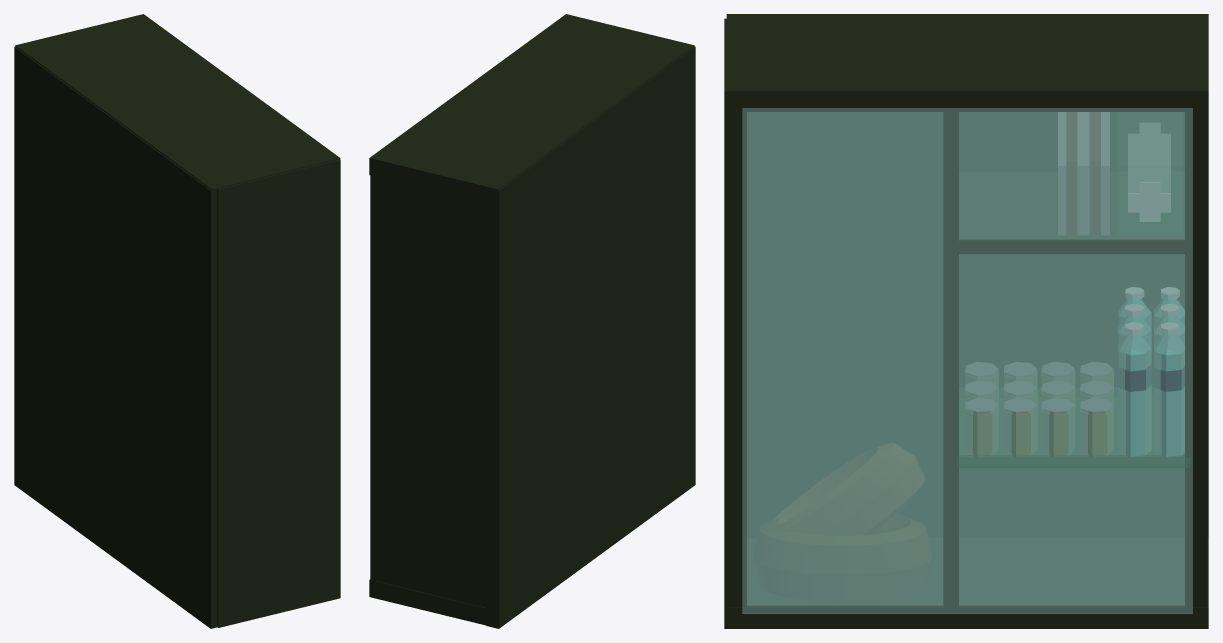
Rendered from survivalkit.fbx.
3 views of the same model, side by side, from view 1: azimuth 30°, elevation 25°; view 2: azimuth 150°, elevation 25°; view 3: azimuth 270°, elevation 25° (orthographic). The views are drawn at different scales.
Parts seen in each view (by area): view 1: Cube.007; view 2: Cube.007; view 3: Cube.007, Cube.012, Torus, Torus.001, Cone.002, Cylinder.013, Cylinder.012, Cube.005, Cube.009, Cube.011, Cube.008, Cylinder.003 (+2 smaller).
Boxes of the visible parts, x1,y1,x2,y2 form: Cube.007: (14,14,340,628); Cube.007: (369,14,695,628); Cube.007: (724,14,1208,628); Cube.012: (742,108,1192,613); Torus: (753,514,932,601); Torus.001: (774,443,925,535); Cone.002: (1119,299,1184,457); Cylinder.013: (965,372,1113,455); Cylinder.012: (966,362,1113,457); Cube.005: (957,398,1189,467); Cube.009: (1058,112,1109,234); Cube.011: (1066,112,1100,236); Cube.008: (1118,171,1182,234); Cylinder.003: (1118,346,1184,391).
Size of the model in its own units: 117 by 377 by 307.
